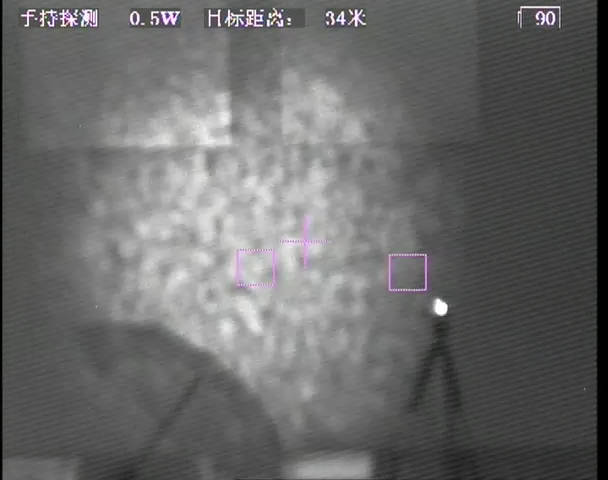my: (434, 299, 452, 316)
